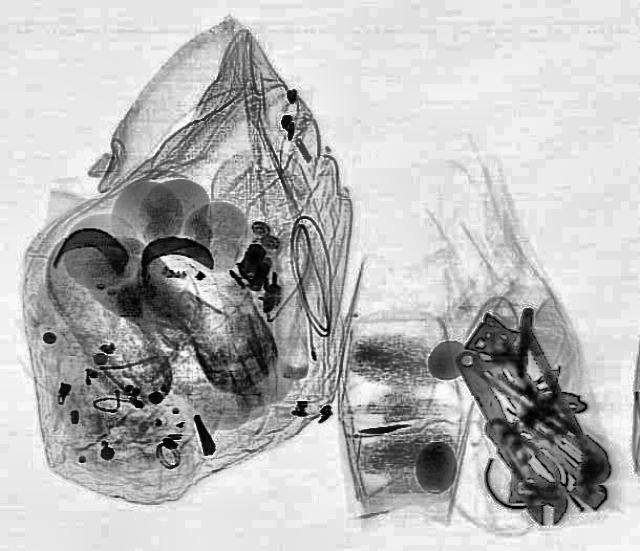Wrench: (442, 344, 578, 532)
